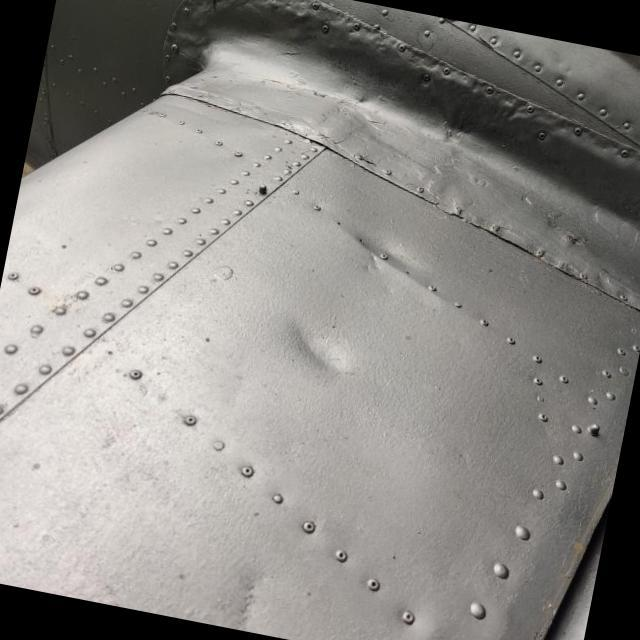Dent: (253, 280, 378, 406), (324, 192, 445, 306)
